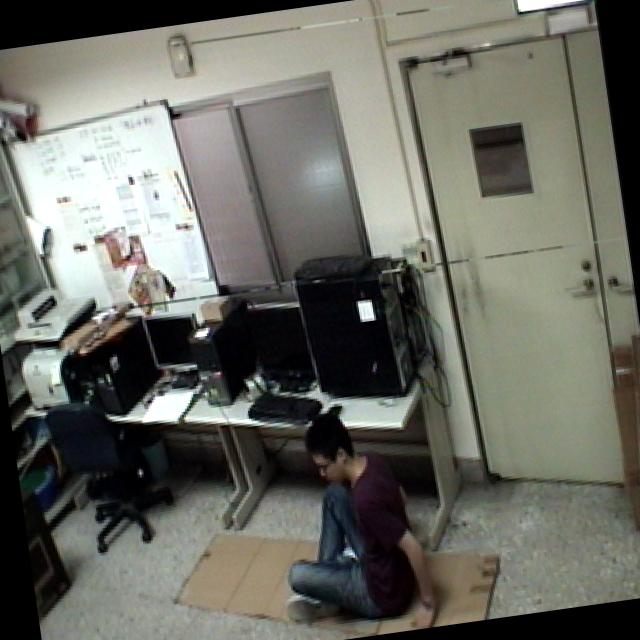sit: (255, 397, 446, 640)
